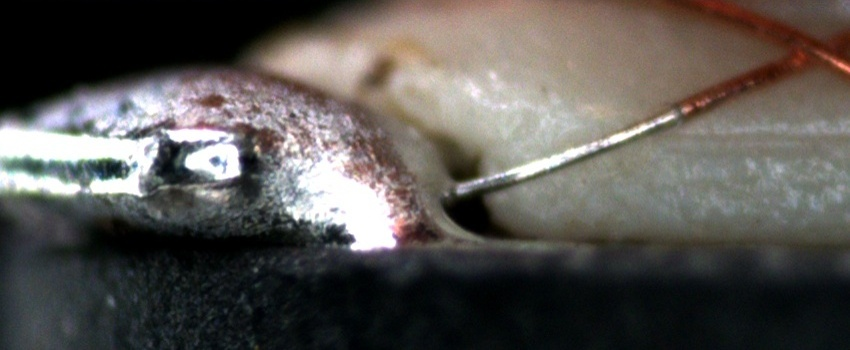CL: (764, 18, 844, 79)
DL: (647, 108, 850, 169)
TS: (453, 106, 682, 199)
